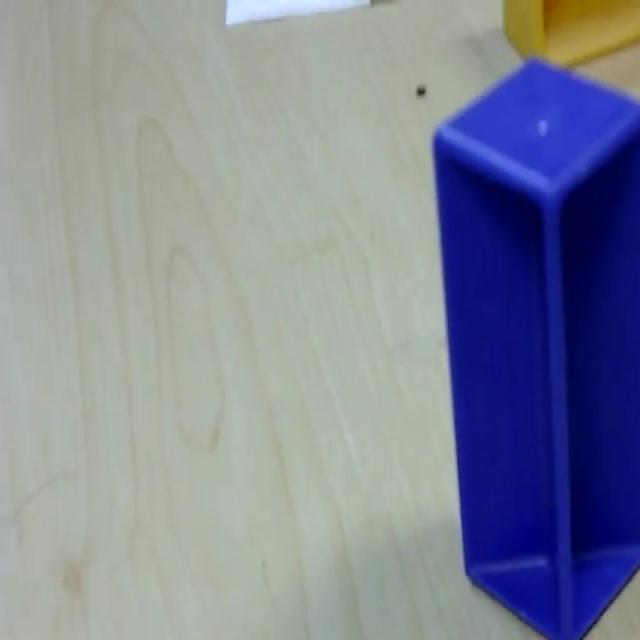blue_block: (430, 53, 638, 636)
